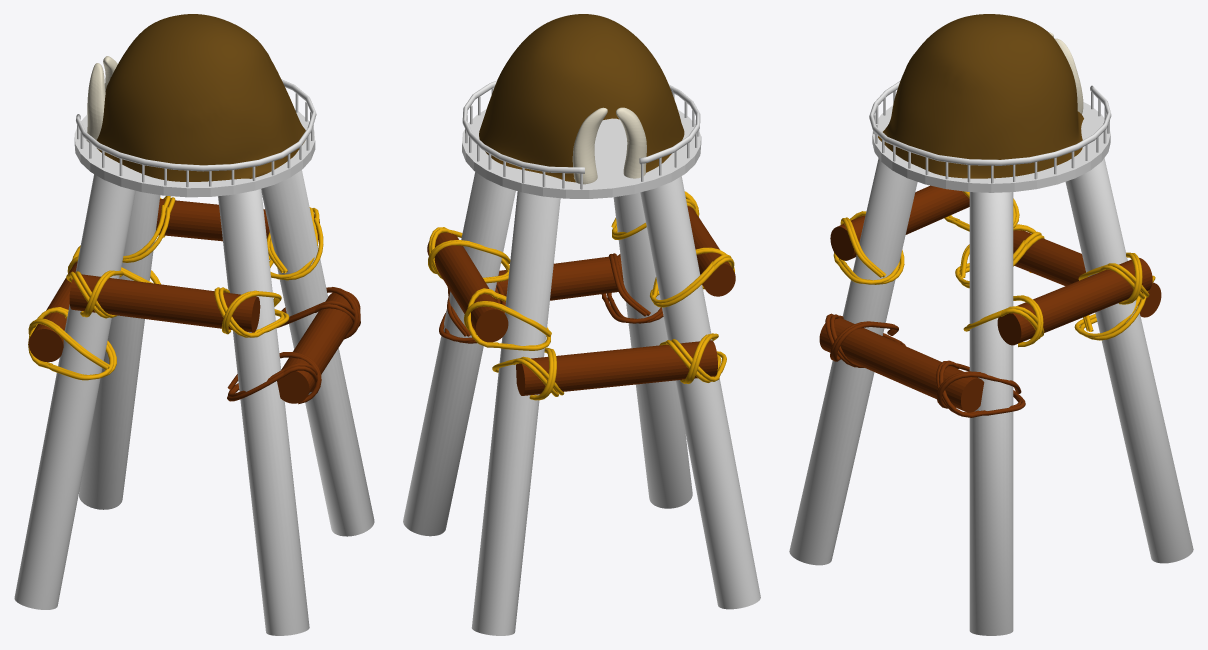
The model's file is woodTower.fbx.
3 views of the same model, side by side, from view 1: azimuth 30°, elevation 25°; view 2: azimuth 150°, elevation 25°; view 3: azimuth 270°, elevation 25° (orthographic).
Parts seen in each view (by area): view 1: WoodPillars, Hide, Log3, WoodPlatforn, BezierCurve; view 2: WoodPillars, Hide, Log3, WoodPlatforn, BezierCurve; view 3: WoodPillars, Hide, Log3, WoodPlatforn, BezierCurve.
Part boxes in pixels (box(x1,y1,x2,y2)): WoodPillars: box(14, 170, 374, 635); Hide: box(86, 14, 305, 181); Log3: box(28, 196, 360, 404); WoodPlatforn: box(74, 109, 315, 197); BezierCurve: box(76, 79, 316, 187); WoodPillars: box(403, 172, 760, 635); Hide: box(479, 14, 684, 184); Log3: box(427, 191, 735, 400); WoodPlatforn: box(462, 109, 701, 198); BezierCurve: box(462, 81, 700, 189); WoodPillars: box(789, 158, 1193, 635); Hide: box(878, 14, 1083, 178); Log3: box(819, 185, 1161, 417); WoodPlatforn: box(872, 102, 1110, 192); BezierCurve: box(869, 81, 1111, 183).
Bounding box in the file's own units: 905 × 1330 × 905.
